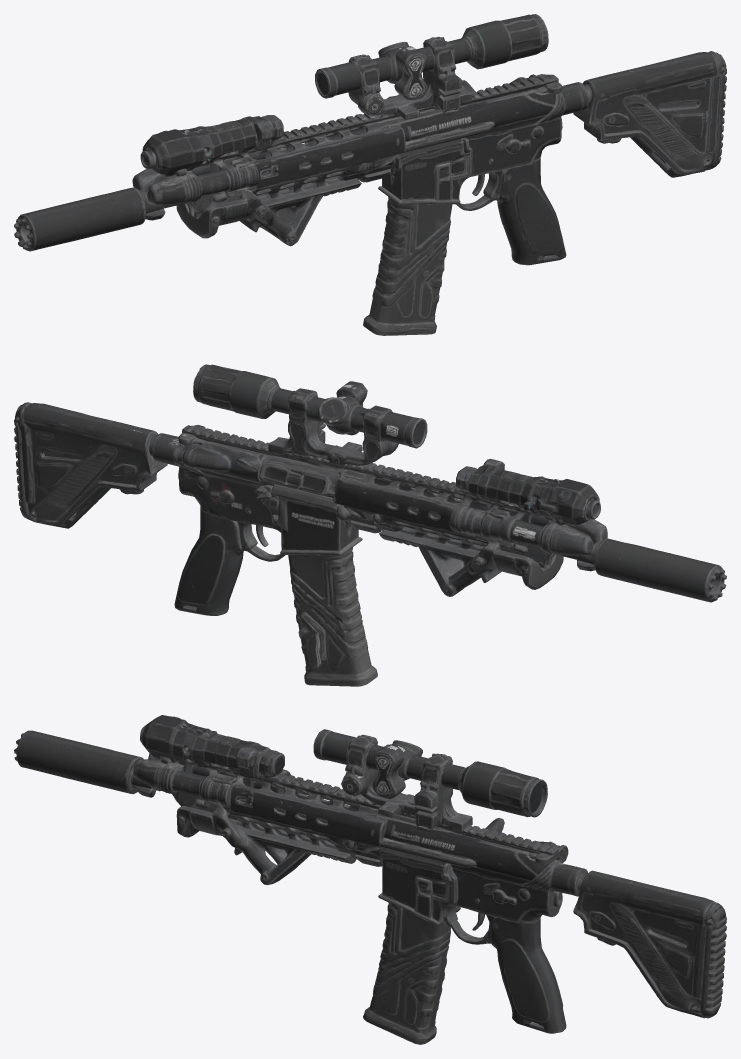
File: scoped.glb
3 views of the same model, one above another, from view 1: azimuth 30°, elevation 25°; view 2: azimuth 150°, elevation 25°; view 3: azimuth 330°, elevation 25° (orthographic).
Size of the model in its own units: 1.9 by 0.7593 by 0.1854.
1 material, 1 textured.
